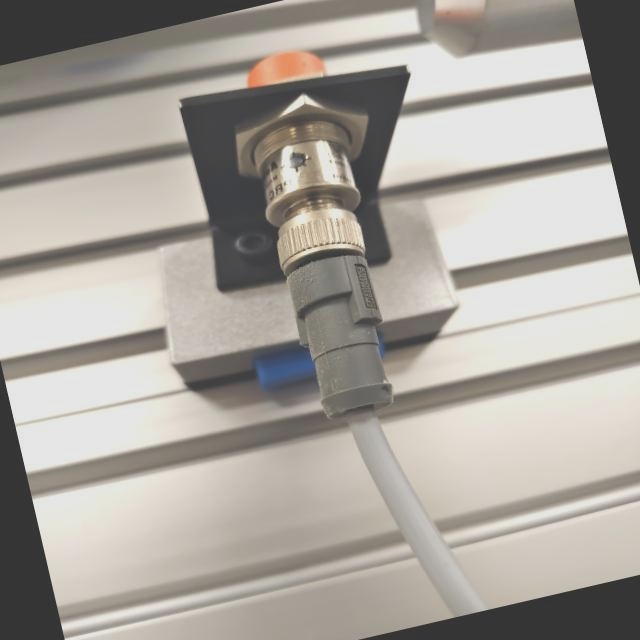inductive sensor: (91, 9, 500, 459)
